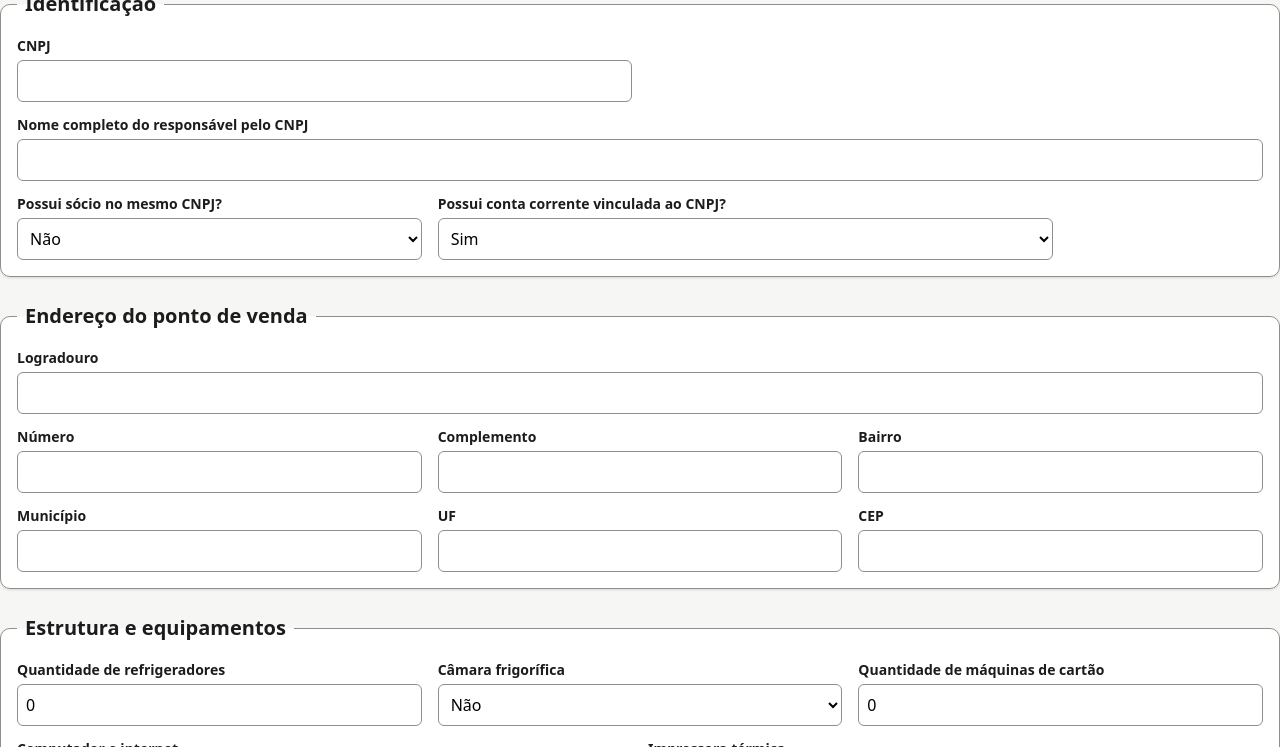
Test case: EtapaDados › CNPJ inválido não consulta e bloqueia o avanço com mensagem
The width and height of the screenshot is (1280, 747).
Type "11222333000180" into the field labelled "CNPJ". click: (324, 81)
box: x1=17 y1=60 x2=632 y2=102
(page scrolled)
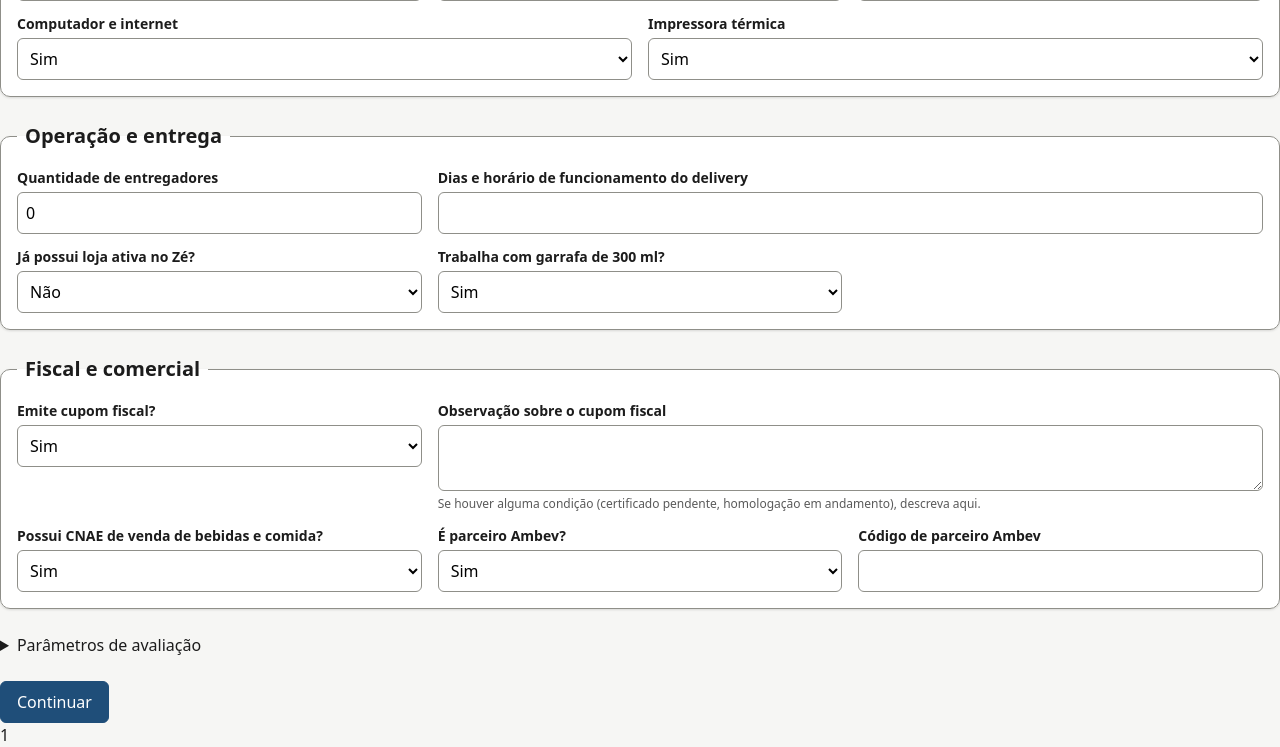
Click the button "Continuar". click: (54, 702)
box: x1=0 y1=681 x2=109 y2=723
(page scrolled)
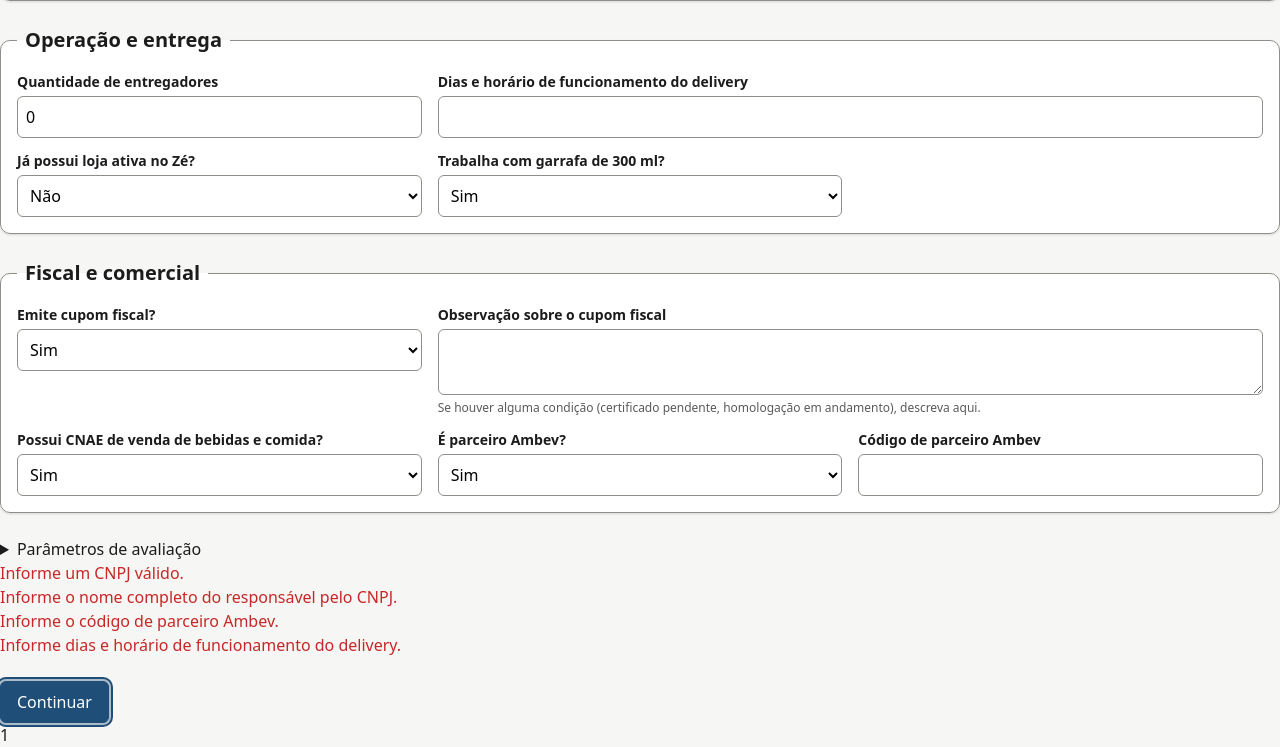
expect the text with test id "etapa" reads "1": met, box x1=0 y1=724 x2=9 y2=746
expect the message shows "Informe um CNPJ válido.": met, box x1=0 y1=562 x2=184 y2=584
